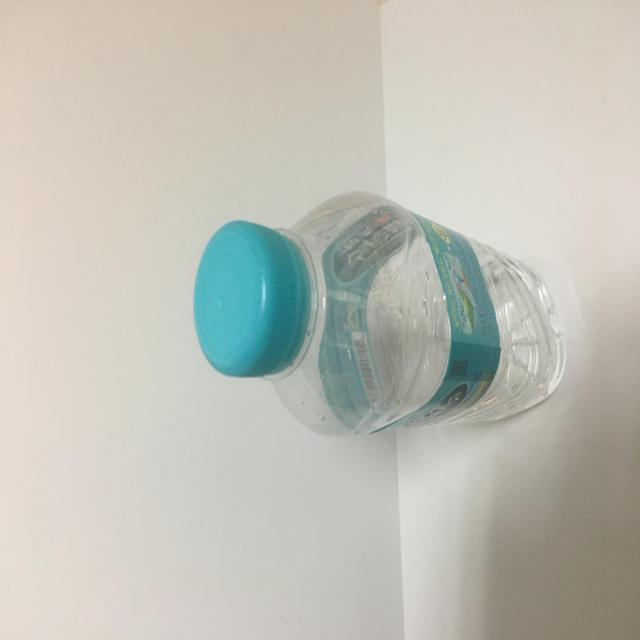bottle: (191, 188, 566, 444)
